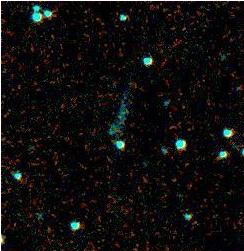star: (101, 115, 131, 145)
